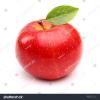Apple leaf: (44, 5, 82, 25)
